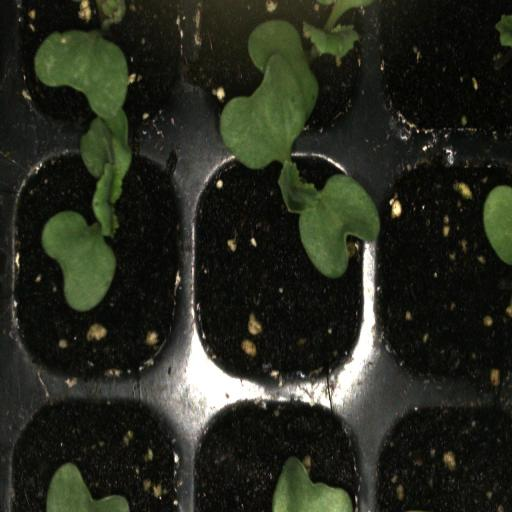Folha: (34, 30, 132, 312), (272, 457, 353, 512), (46, 462, 129, 512), (483, 185, 512, 265)
Germinacao: (186, 142, 373, 390), (8, 146, 189, 390), (188, 0, 376, 146)
